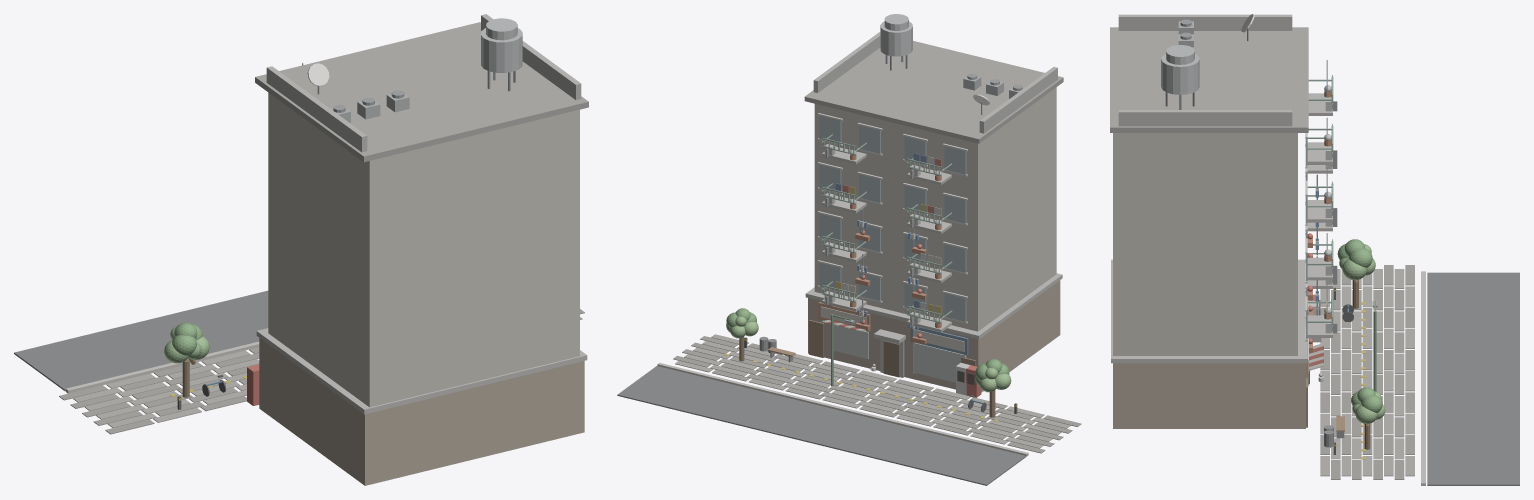
Rendered from residence_05.glb.
3 views of the same model, side by side, from view 1: azimuth 30°, elevation 25°; view 2: azimuth 150°, elevation 25°; view 3: azimuth 270°, elevation 25° (orthographic). The views are drawn at different scales.
Parts seen in each view (by area): view 1: geometry_0; view 2: geometry_0; view 3: geometry_0.
Part boxes in pixels (x1,y1,x2,y2): geometry_0: (14, 14, 588, 485); geometry_0: (617, 14, 1081, 485); geometry_0: (1110, 14, 1519, 485).
Bounding box in the file's own units: 26.7 × 20.45 × 21.25.
